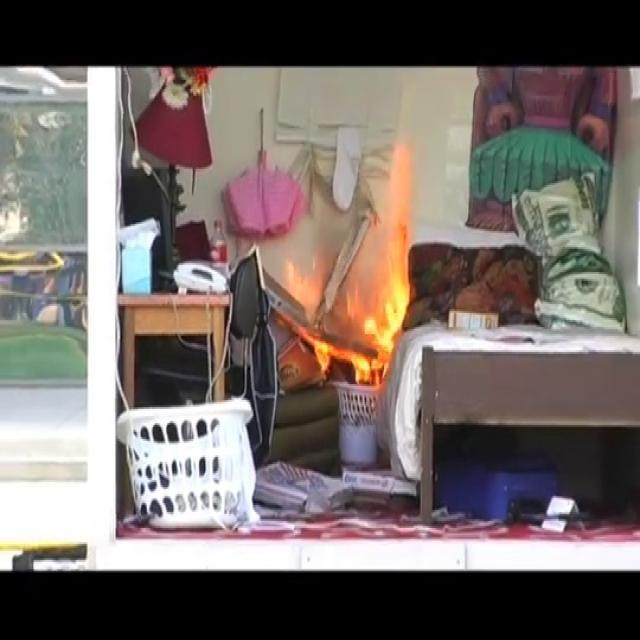Fire: (311, 126, 425, 386)
